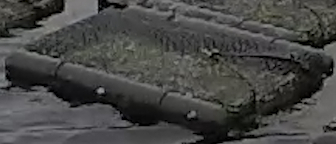bag: (10, 7, 330, 129)
